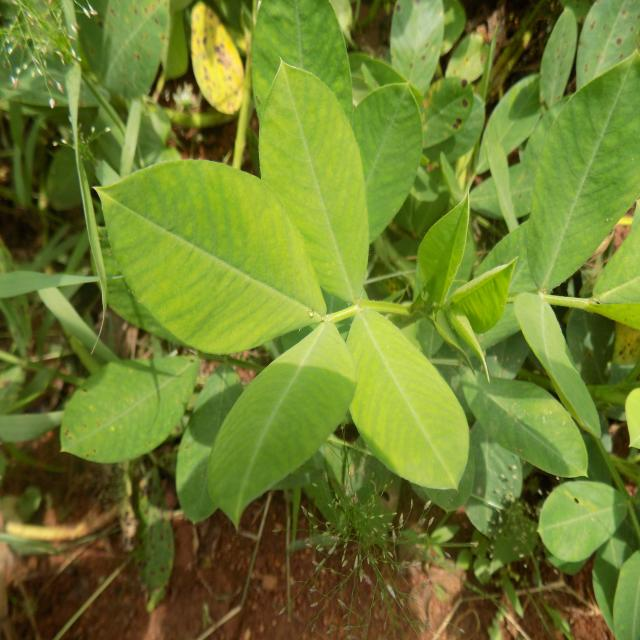Ground nut_healthy: (92, 154, 329, 356), (206, 324, 353, 524), (258, 55, 372, 296), (530, 48, 640, 287), (340, 305, 472, 492), (62, 354, 200, 464)
